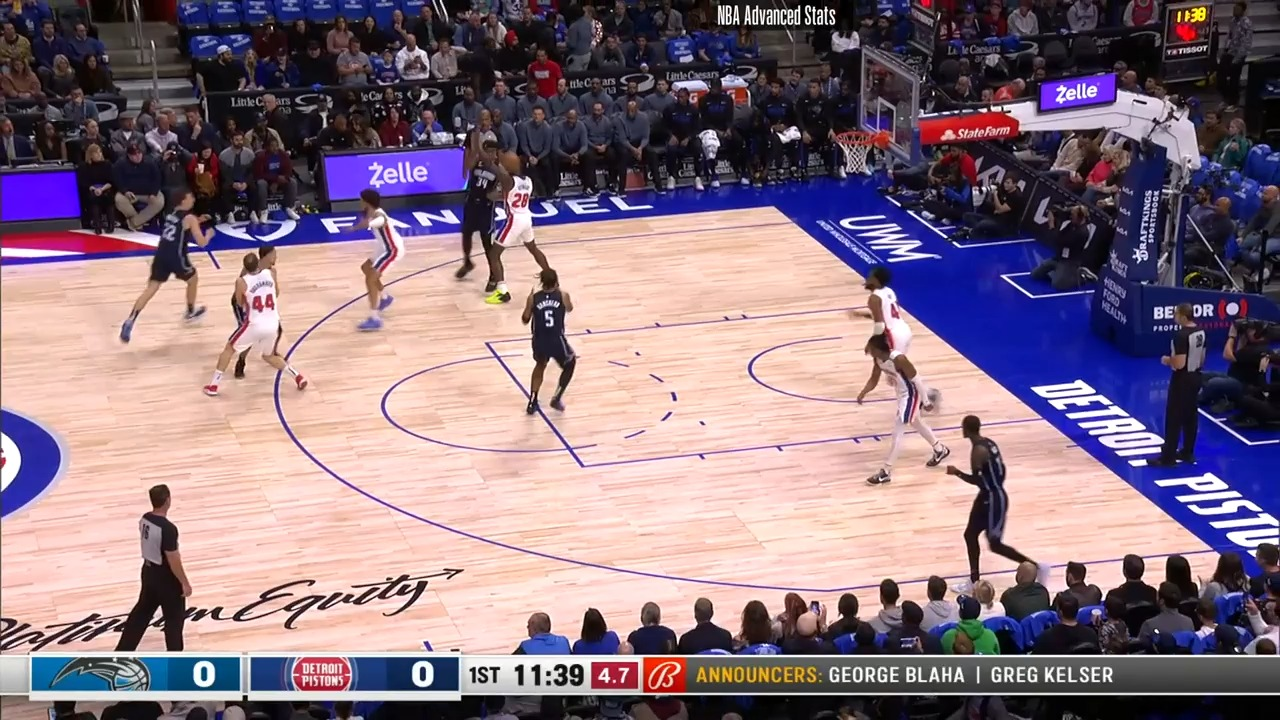net: (833, 124, 889, 175)
player: (943, 411, 1039, 589), (208, 244, 307, 397), (121, 192, 218, 347), (854, 330, 949, 487), (487, 149, 558, 301), (524, 264, 587, 422), (849, 264, 918, 406), (353, 188, 411, 334), (450, 137, 505, 285)
referee: (109, 485, 195, 655), (1153, 305, 1211, 473)
